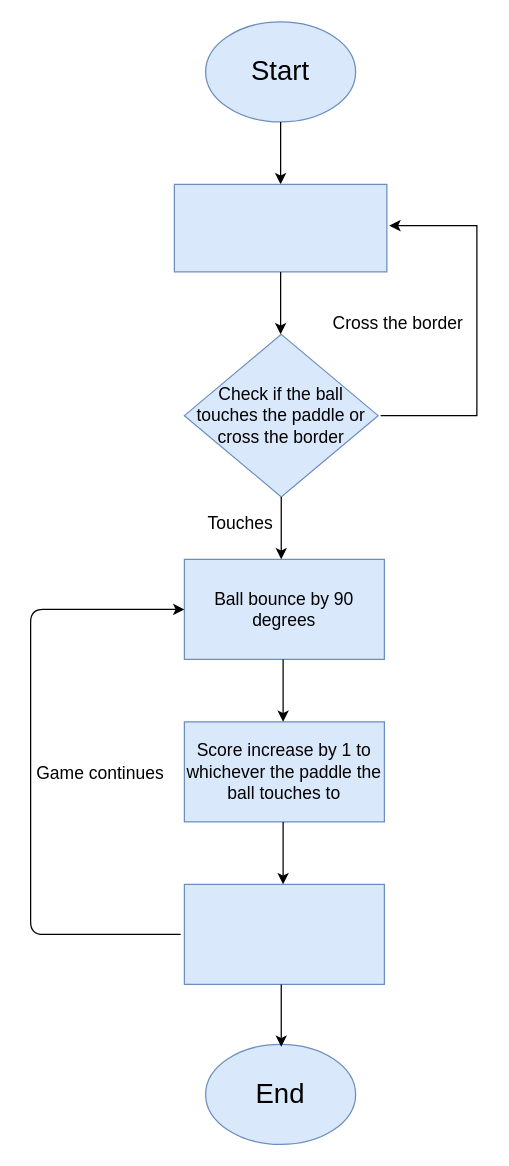
Image size: 509x1166. Some labels were removed from this diagram. Here are the shapes that lost their labels. From the top down, the centre of each, then its label:
At (280,227): "Kick off the game from coordinate (0, 0), with the score of 0".
At (283,933): "Game ends when the game window is shut down".
